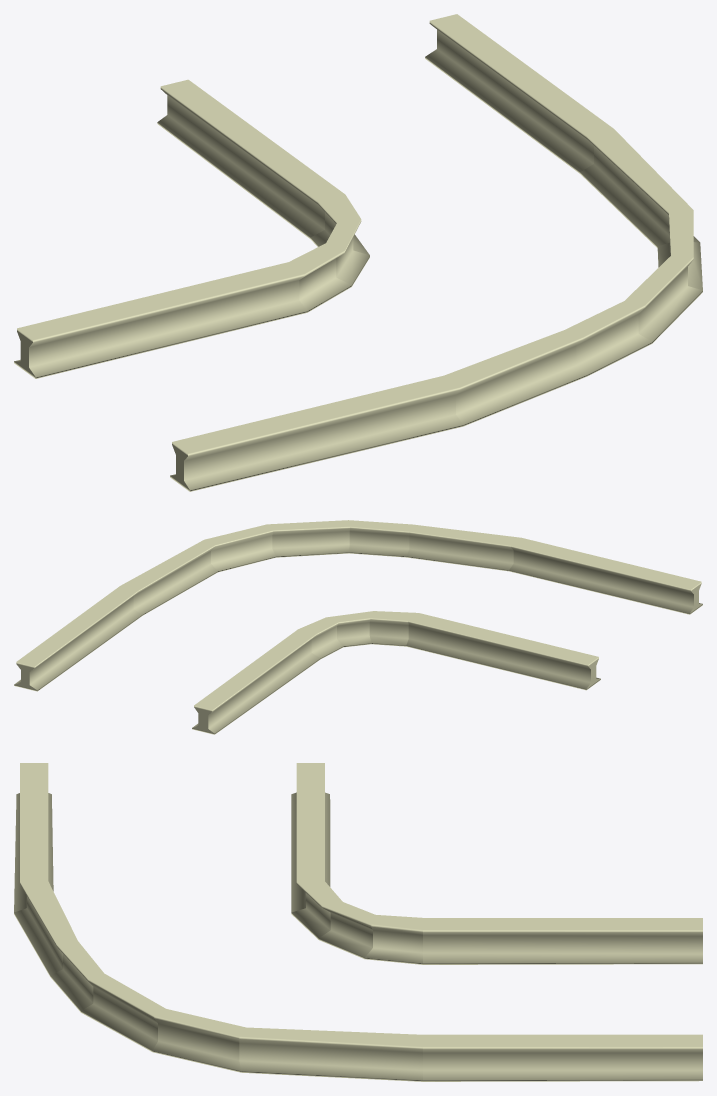
The model's file is SM_RailBend.fbx.
3 renders of one model, top to bottom at view 1: azimuth 30°, elevation 25°; view 2: azimuth 150°, elevation 25°; view 3: azimuth 270°, elevation 25°, orthographic. The views are drawn at different scales.
Visible parts, largest first — view 1: SM_rail_bend; view 2: SM_rail_bend; view 3: SM_rail_bend.
Part boxes in pixels (box(x1,y1,x2,y2)): SM_rail_bend: box(14, 14, 702, 491); SM_rail_bend: box(14, 520, 702, 734); SM_rail_bend: box(14, 763, 702, 1081).
Size of the model in its own units: 2.7 by 0.1446 by 2.74.
